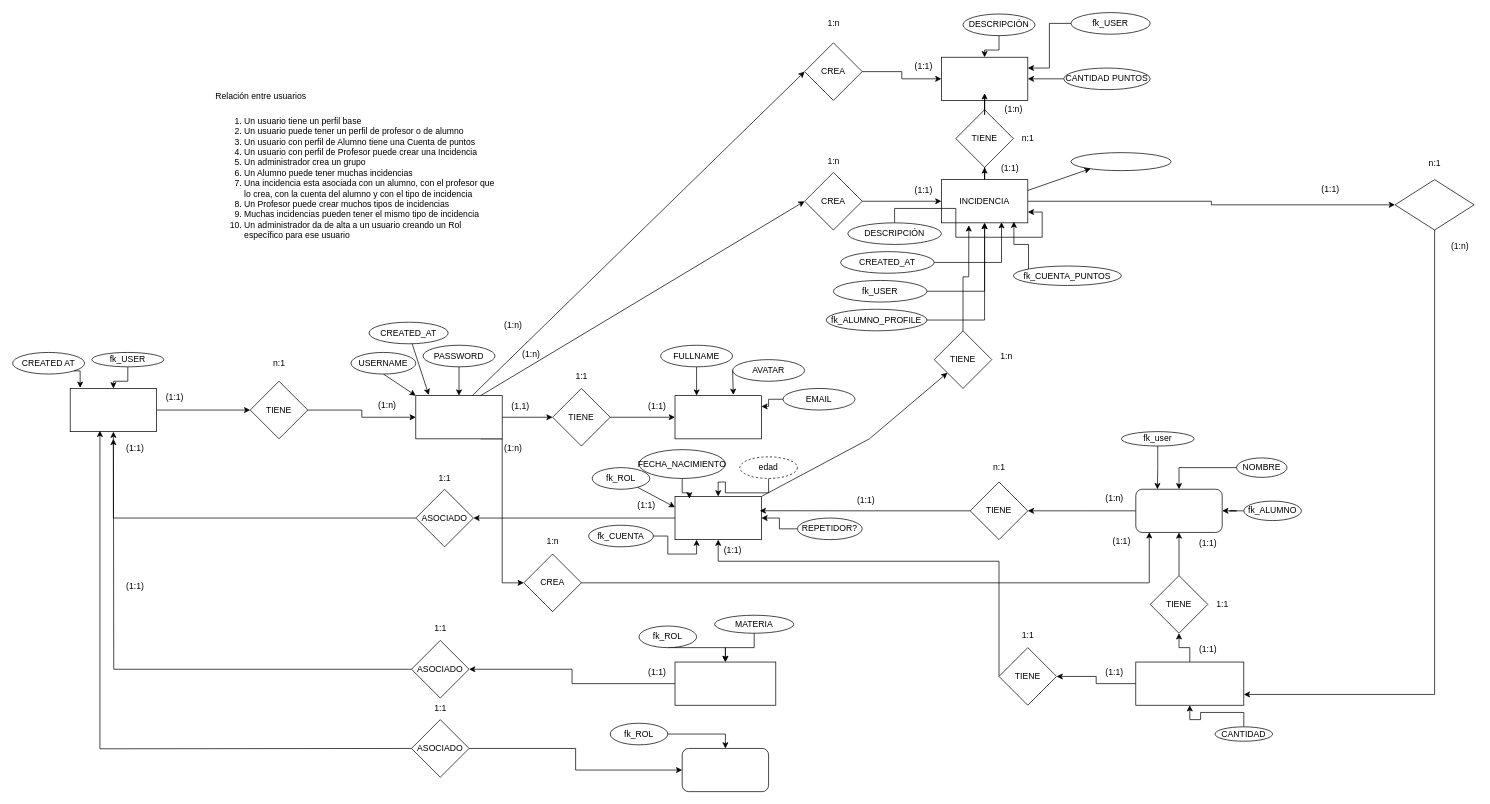
The diagram is 1490 pixels wide and 804 high, and some of its shapes have lost their labels. Each missing label, with the centre of its shape:
ADMIN_PROFILE: (725,770)
ALUMNO_PROFILE: (717,518)
CUENTA DE PUNTOS: (1189,683)
fk_TIPO_INCIDENCIA: (1120,161)
GRUPO: (1178,510)
PROFESOR_PROFILE: (725,683)
PROFILE: (717,417)
RESTA PUNTOS: (1434,204)
ROL: (113,410)
TIPO_INCIDENCIA: (984,78)
USER: (458,417)
